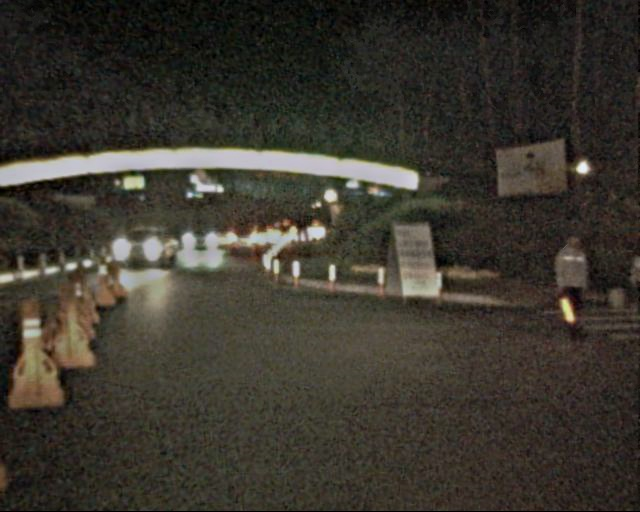person: (540, 236, 598, 348), (619, 242, 639, 335)
